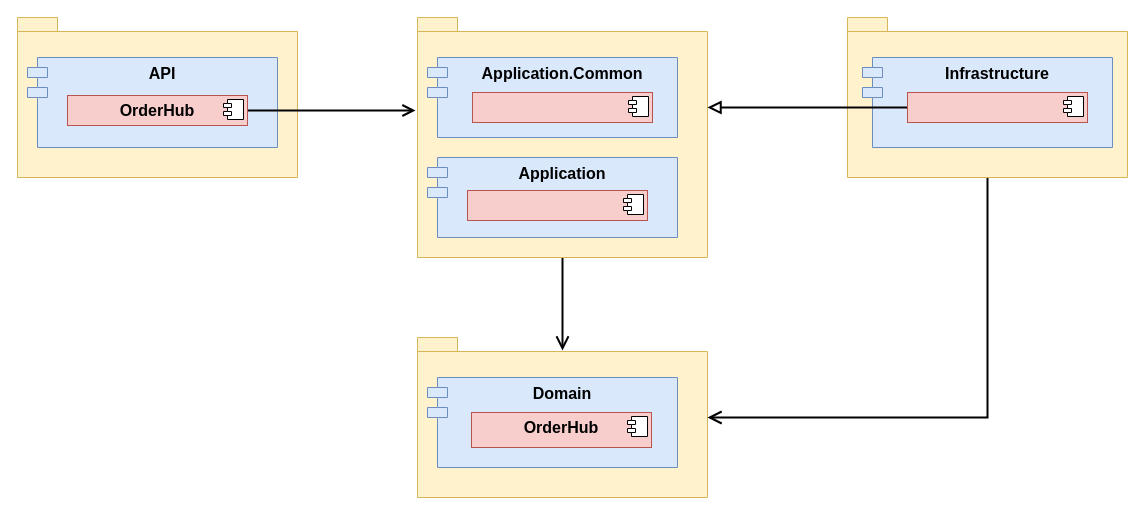
Some shapes in this 1145 by 515 pixel diagram are drawn without their labels. Here are the shapes that lost their labels. From the top down, the centre of each, then its label:
At pixel 562 107: "Interfaces".
At pixel 557 205: "Commands".
